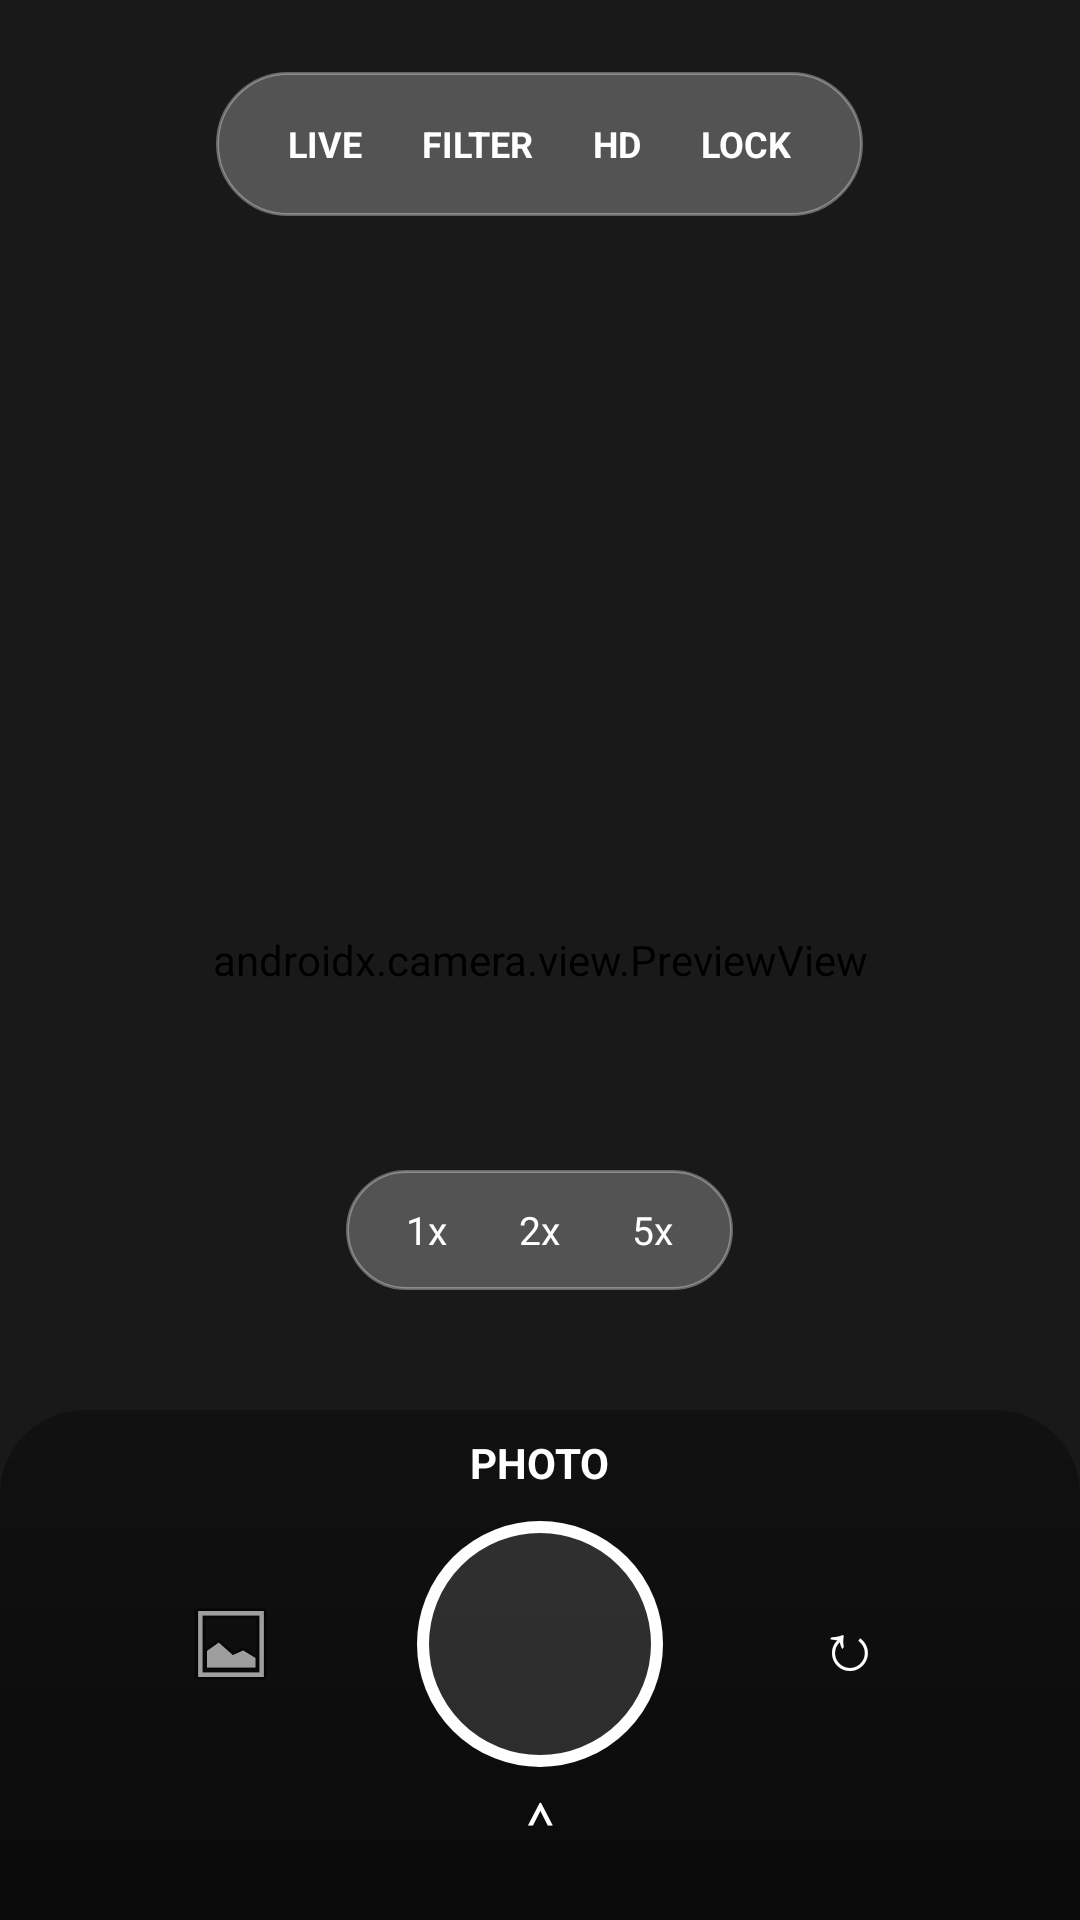

Point at icon controls on the screen. Image size 1080*1920, points as [x,y].
gallery: [231,1644]
